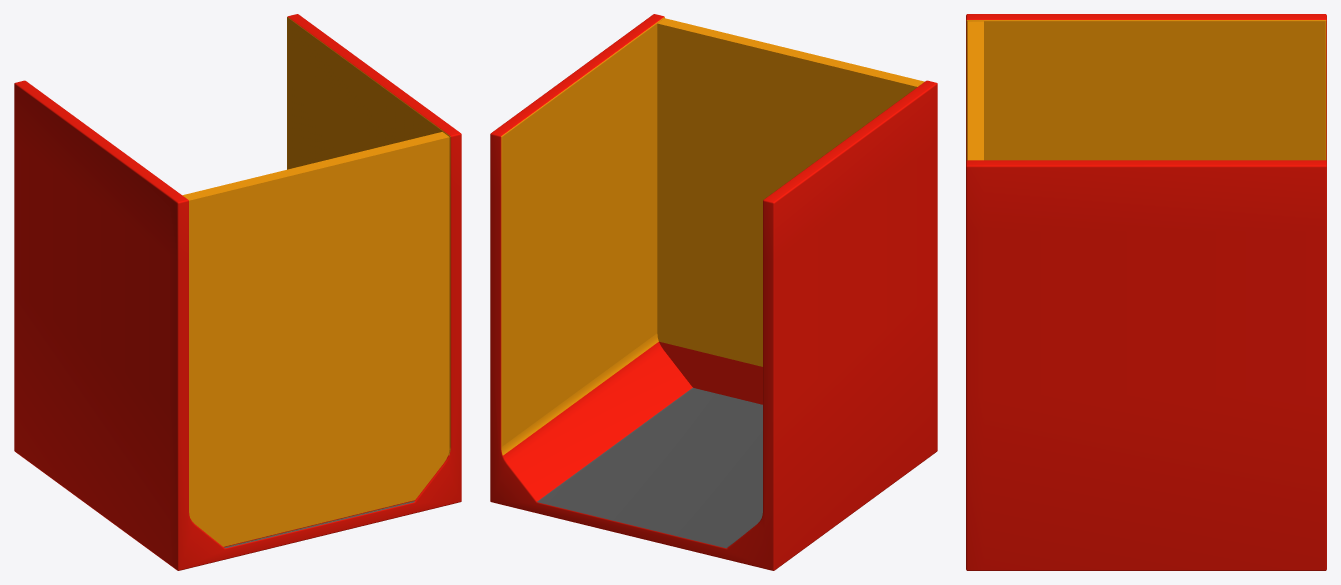
3 renders of one model, left to right at view 1: azimuth 30°, elevation 25°; view 2: azimuth 150°, elevation 25°; view 3: azimuth 270°, elevation 25°, orthographic. The views are drawn at different scales.
Parts seen in each view (by area): view 1: S014; view 2: S014; view 3: S014.
Part boxes in pixels (box(x1,y1,x2,y2)): S014: box(14, 14, 461, 570); S014: box(490, 14, 937, 570); S014: box(966, 14, 1326, 570).
Size of the model in its own units: 200 by 248 by 200.
